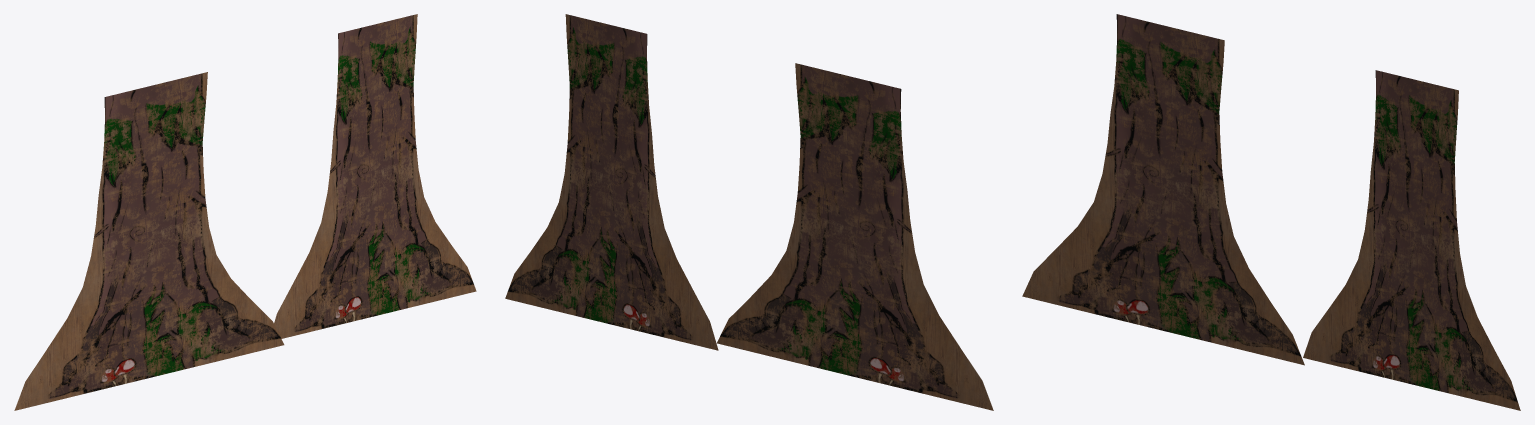
File: ArbolesFondo_Frente.fbx
3 views of the same model, side by side, from view 1: azimuth 30°, elevation 25°; view 2: azimuth 150°, elevation 25°; view 3: azimuth 330°, elevation 25° (orthographic). The views are drawn at different scales.
Visible parts, largest first — view 1: Arbol_01, Arbol_02; view 2: Arbol_01, Arbol_02; view 3: Arbol_01, Arbol_02.
Boxes of the visible parts, bbox=[...] form: Arbol_01: bbox=[14, 72, 284, 410]; Arbol_02: bbox=[274, 14, 476, 338]; Arbol_01: bbox=[717, 63, 993, 410]; Arbol_02: bbox=[505, 14, 718, 350]; Arbol_01: bbox=[1022, 14, 1304, 365]; Arbol_02: bbox=[1303, 70, 1520, 410].
Size of the model in its own units: 1110 by 659 by 28.49.
Materials: 2 (2 with a texture image).
